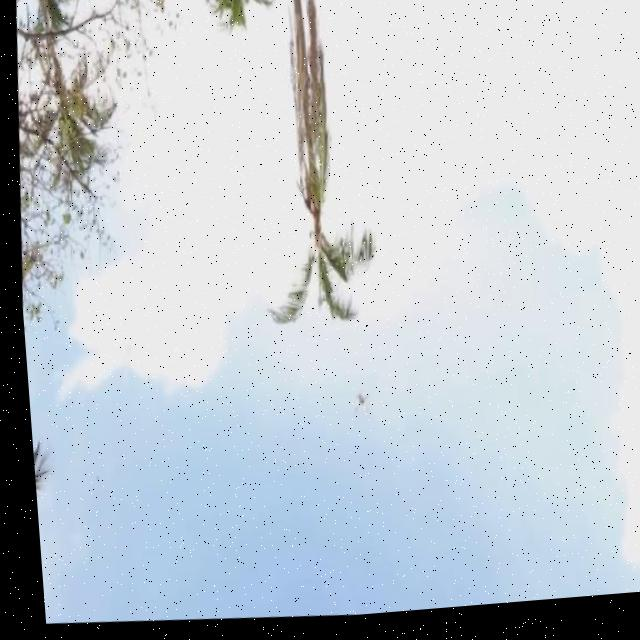drones: (336, 366, 375, 444)
